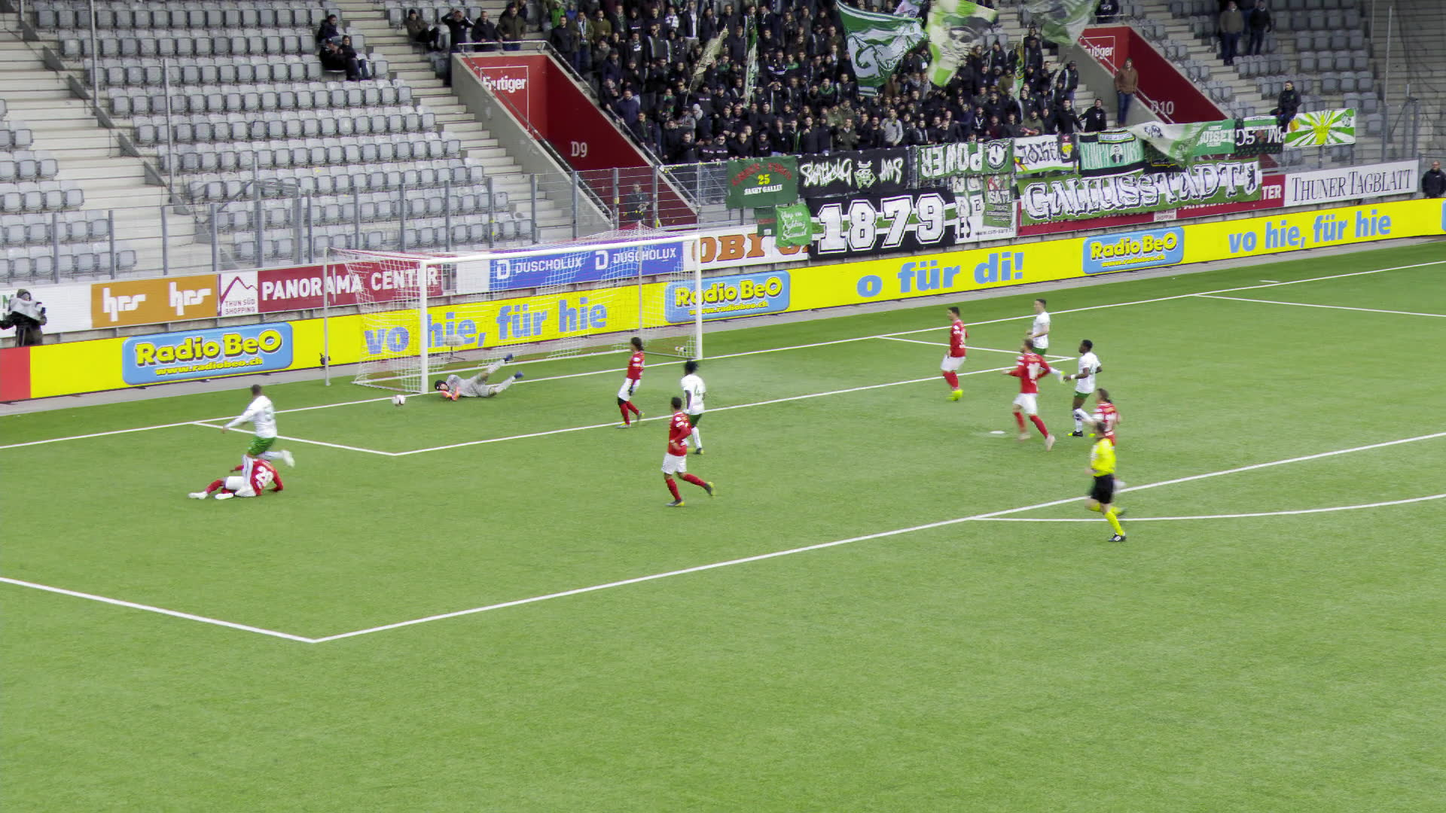ball: (392, 392, 410, 407)
player: (213, 381, 297, 498), (655, 394, 718, 511), (1077, 382, 1138, 501), (996, 336, 1057, 451), (1011, 295, 1070, 397), (186, 449, 284, 510), (1060, 338, 1112, 443), (432, 349, 529, 405), (668, 355, 716, 458), (931, 303, 978, 406), (606, 335, 651, 432)
referee: (1074, 419, 1149, 545)
